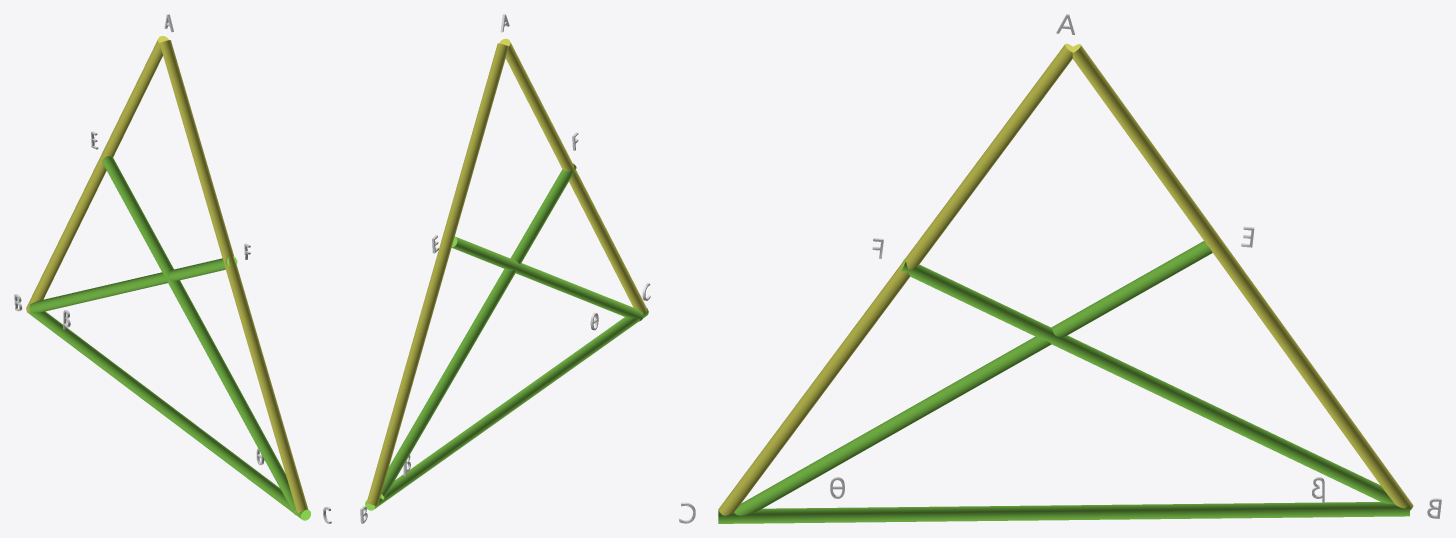
3 views of the same model, side by side, from view 1: azimuth 30°, elevation 25°; view 2: azimuth 150°, elevation 25°; view 3: azimuth 270°, elevation 25° (orthographic). The views are drawn at different scales.
Visible parts, largest first — view 1: Cylinder.043, Cylinder.042, Cylinder.046, Cylinder.045, Cylinder.044; view 2: Cylinder.045, Cylinder.044, Cylinder.046, Cylinder.043, Cylinder.042; view 3: Cylinder.046, Cylinder.043, Cylinder.045, Cylinder.044, Cylinder.042.
Boxes of the visible parts, bbox=[...] form: Cylinder.043: bbox=[159, 40, 308, 512]; Cylinder.042: bbox=[102, 156, 296, 514]; Cylinder.046: bbox=[27, 311, 310, 520]; Cylinder.045: bbox=[26, 36, 168, 313]; Cylinder.044: bbox=[29, 256, 237, 313]; Cylinder.045: bbox=[366, 43, 508, 506]; Cylinder.044: bbox=[380, 163, 576, 499]; Cylinder.046: bbox=[365, 308, 648, 510]; Cylinder.043: bbox=[499, 38, 647, 313]; Cylinder.042: bbox=[451, 236, 643, 321]; Cylinder.046: bbox=[718, 502, 1409, 523]; Cylinder.043: bbox=[718, 43, 1073, 515]; Cylinder.045: bbox=[1072, 44, 1413, 510]; Cylinder.044: bbox=[900, 258, 1394, 504]; Cylinder.042: bbox=[734, 241, 1212, 515].
Bounding box in the file's own units: 0.0181 × 0.3767 × 0.5112.
